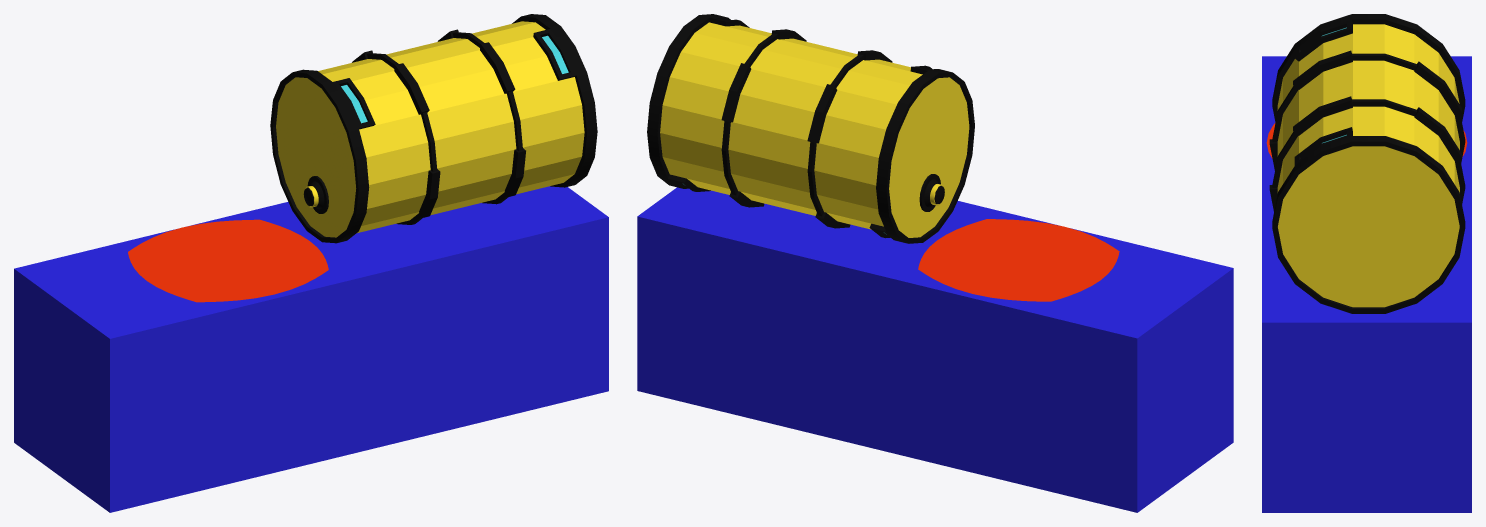
Rendered from BarrelSpill.fbx.
The picture shows the model from 3 angles, left to right: view 1: azimuth 30°, elevation 25°; view 2: azimuth 150°, elevation 25°; view 3: azimuth 270°, elevation 25°; orthographic projection. The views are drawn at different scales.
Visible parts, largest first — view 1: Box255, Barrel, Box253, Box254, BarrelDetail, Liquid; view 2: Box255, Barrel, Box253, Box254, Liquid, BarrelDetail; view 3: Box253, Barrel, BarrelDetail, Box255, Box254.
Boxes of the visible parts, x1=… form: Box255: x1=14, y1=229, x2=276, y2=512; Barrel: x1=276, y1=21, x2=584, y2=237; Box253: x1=397, y1=186, x2=608, y2=431; Box254: x1=188, y1=202, x2=442, y2=472; BarrelDetail: x1=270, y1=14, x2=597, y2=243; Liquid: x1=128, y1=219, x2=328, y2=302; Box255: x1=970, y1=228, x2=1233, y2=512; Barrel: x1=660, y1=22, x2=969, y2=237; Box253: x1=637, y1=187, x2=843, y2=431; Box254: x1=804, y1=201, x2=1057, y2=472; Liquid: x1=918, y1=219, x2=1119, y2=301; BarrelDetail: x1=647, y1=14, x2=974, y2=243; Box253: x1=1262, y1=234, x2=1471, y2=512; Barrel: x1=1277, y1=24, x2=1459, y2=307; BarrelDetail: x1=1269, y1=14, x2=1465, y2=313; Box255: x1=1262, y1=56, x2=1471, y2=145; Box254: x1=1262, y1=145, x2=1471, y2=233.
Bounding box in the file's own units: 118 × 76.83 × 39.5.
